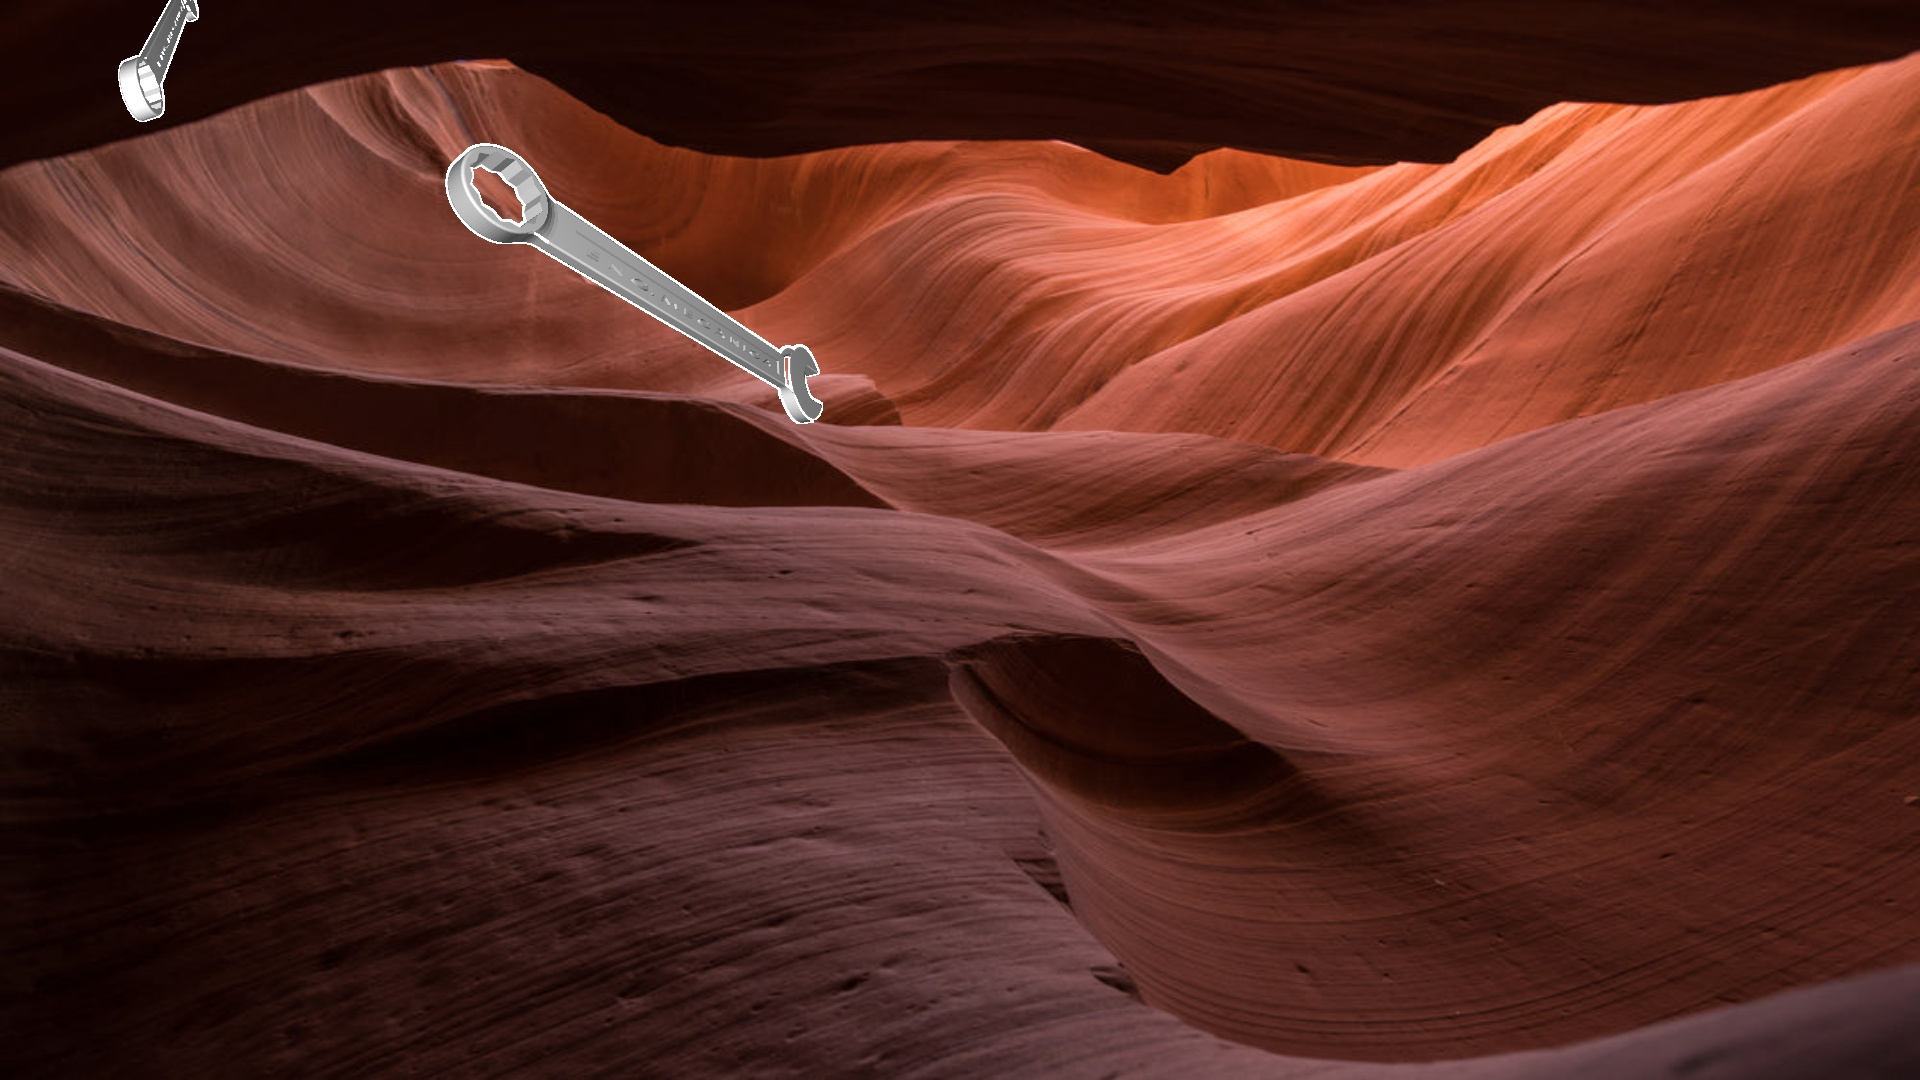Mixed Key: (444, 142, 822, 423), (117, 0, 198, 121)
